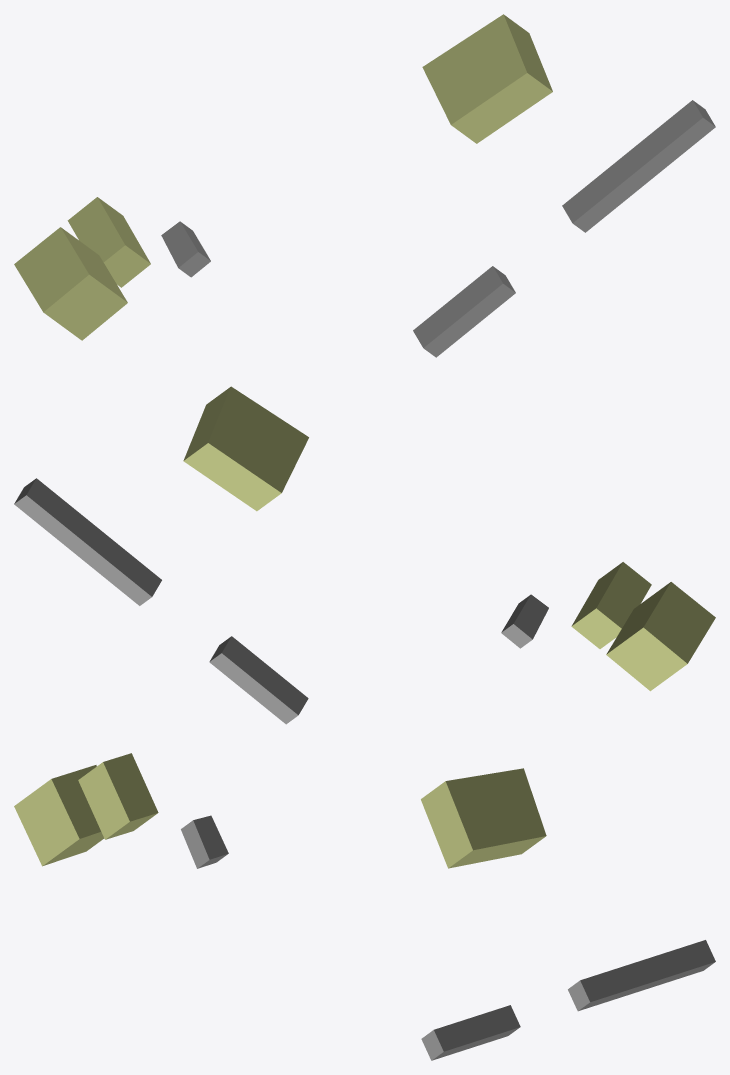
3 views of the same model, one above another, from view 1: azimuth 30°, elevation 25°; view 2: azimuth 150°, elevation 25°; view 3: azimuth 330°, elevation 25° (orthographic). The views are drawn at different scales.
Parts seen in each view (by area): view 1: 0_1_0_0_1_0_2_1; view 2: 0_1_0_0_1_0_2_1; view 3: 0_1_0_0_1_0_2_1.
Part boxes in pixels (x1,y1,x2,y2): 0_1_0_0_1_0_2_1: [14, 14, 715, 357]; 0_1_0_0_1_0_2_1: [14, 386, 715, 724]; 0_1_0_0_1_0_2_1: [14, 753, 715, 1060].
Size of the model in its own units: 92.35 by 40.08 by 9.1.
